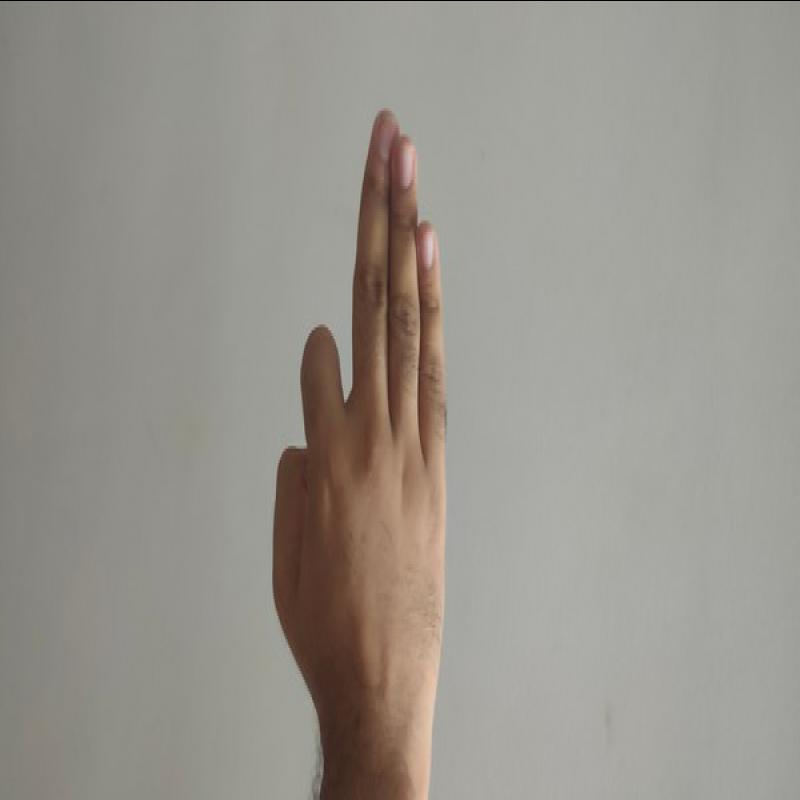Mudraakhyam: (251, 96, 474, 746)
